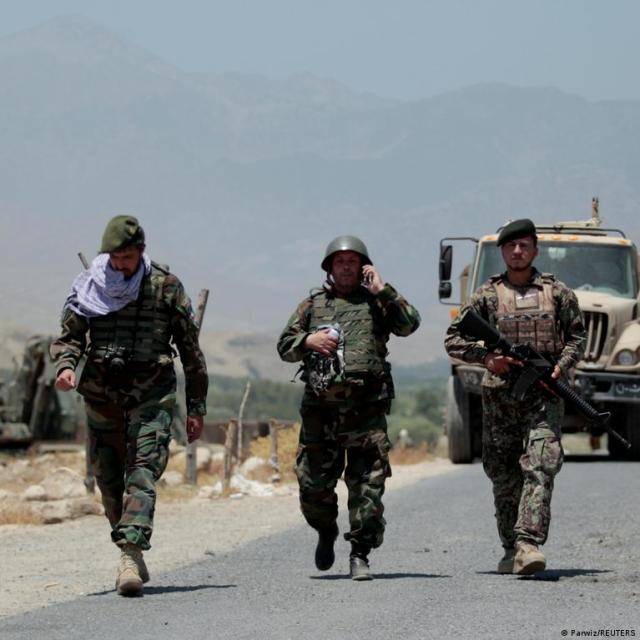Militant: (437, 208, 602, 579), (52, 193, 200, 601), (276, 209, 404, 586)
